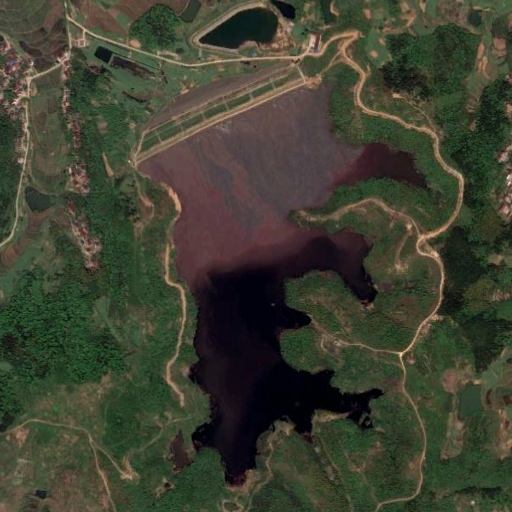tp: (135, 62, 430, 487)
